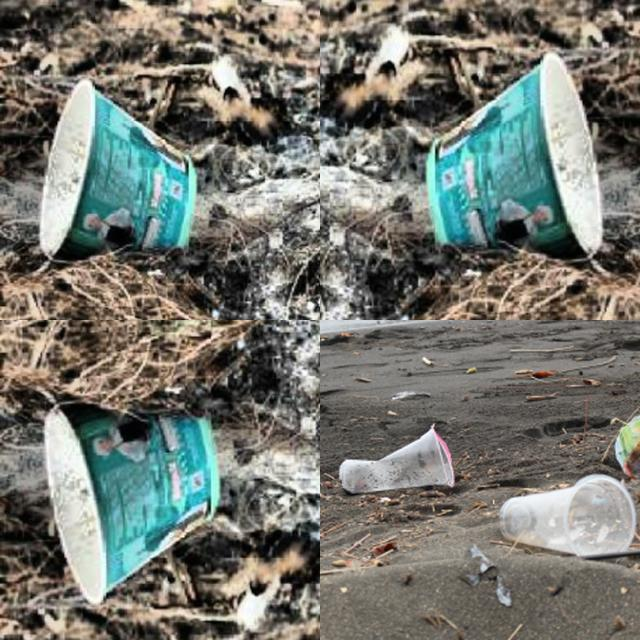Single-Use-Plastic: (428, 52, 602, 256), (45, 402, 220, 602), (40, 80, 196, 259), (500, 475, 636, 556), (339, 424, 455, 494)
